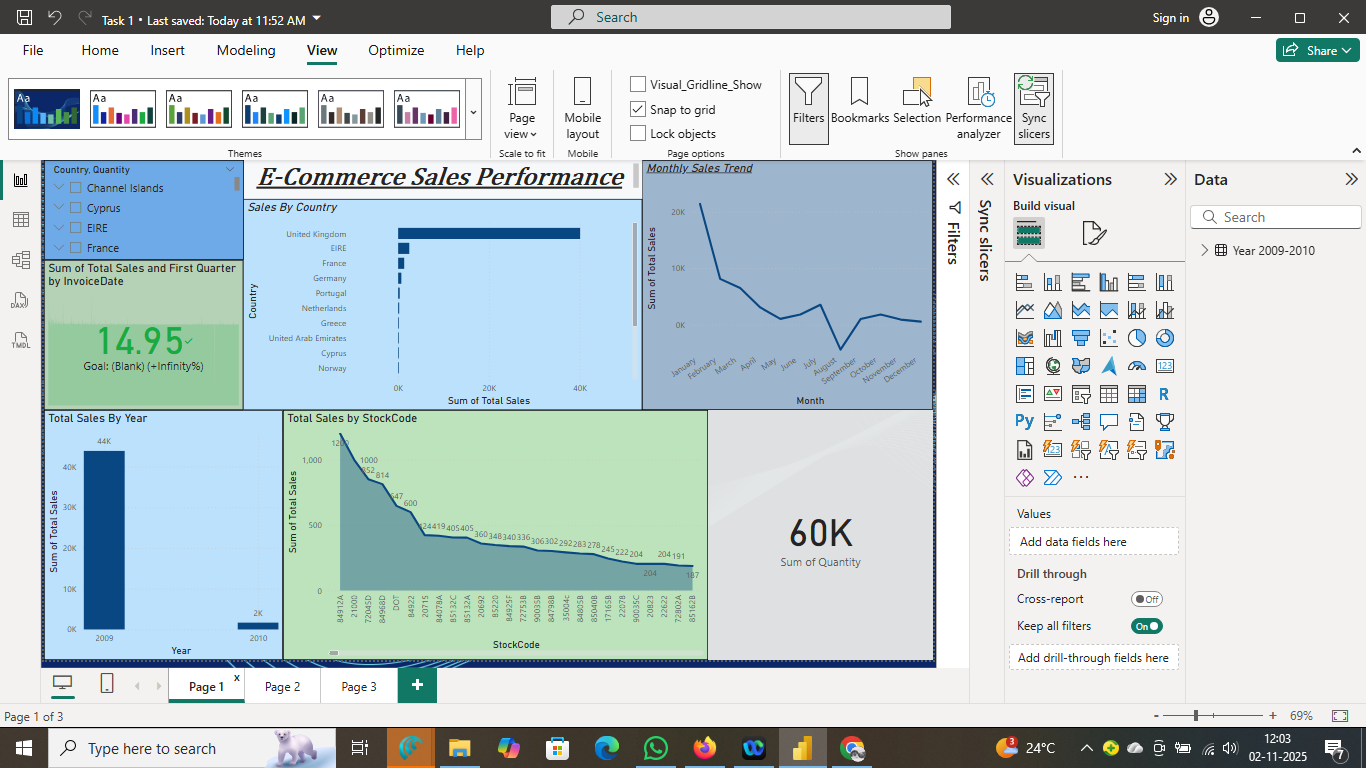

Layout of this report page (visuals, bound fields, positions):
{"tool":"powerbi","page":{"name":"Page 1","canvas":[1280,720],"ordinal":0},"visuals":[{"type":"clusteredColumnChart","title":"Total Sales By Year","fields":{"Category":["Year 2009-2010.InvoiceDate.Variation.Date Hierarchy.Year"],"Y":["Sum(Year 2009-2010.Total Sales)"]},"box":[0,360,344.2,360],"z":0},{"type":"clusteredBarChart","title":" Sales By Country","fields":{"Category":["Year 2009-2010.Country"],"Y":["Sum(Year 2009-2010.Total Sales)"]},"box":[286.6,56.2,574.6,303.8],"z":1000},{"type":"lineChart","title":"Monthly Sales Trend","fields":{"Category":["Year 2009-2010.InvoiceDate.Variation.Date Hierarchy.Month"],"Y":["Sum(Year 2009-2010.Total Sales)"]},"box":[861.1,0,419,360],"z":2000},{"type":"textbox","box":[286.6,0,574.6,56.2],"z":3000},{"type":"areaChart","title":" Total Sales by StockCode","fields":{"Category":["Year 2009-2010.StockCode"],"Y":["Sum(Year 2009-2010.Total Sales)"]},"box":[344.2,360,612,360],"z":4000},{"type":"slicer","fields":{"Values":["Year 2009-2010.Country","Year 2009-2010.Quantity"]},"box":[0,0,288,144],"z":5000},{"type":"kpi","fields":{"TrendLine":["Year 2009-2010.InvoiceDate"],"Indicator":["Sum(Year 2009-2010.Total Sales)"],"Goal":["Min(Year 2009-2010.InvoiceDate.Variation.Date Hierarchy.Quarter)"]},"box":[0,144,286.6,216],"z":6000},{"type":"card","fields":{"Values":["Sum(Year 2009-2010.Quantity)"]},"box":[956,360,324,360],"z":7000}]}

Visuals, with their boxes on the page's 1280x720 design canvas (x1, y1, x2, y2). These are canvas units, not pixel positions in the 1366x768 screenshot, which may show the page scaled, cropped or inside an application window:
"Total Sales By Year" clusteredColumnChart: 0,360,344,720
" Sales By Country" clusteredBarChart: 287,56,861,360
"Monthly Sales Trend" lineChart: 861,0,1280,360
textbox: 287,0,861,56
" Total Sales by StockCode" areaChart: 344,360,956,720
slicer - Year 2009-2010.Country x Year 2009-2010.Quantity: 0,0,288,144
kpi - Year 2009-2010.InvoiceDate x Sum(Year 2009-2010.Total Sales): 0,144,287,360
card - Sum(Year 2009-2010.Quantity): 956,360,1280,720
